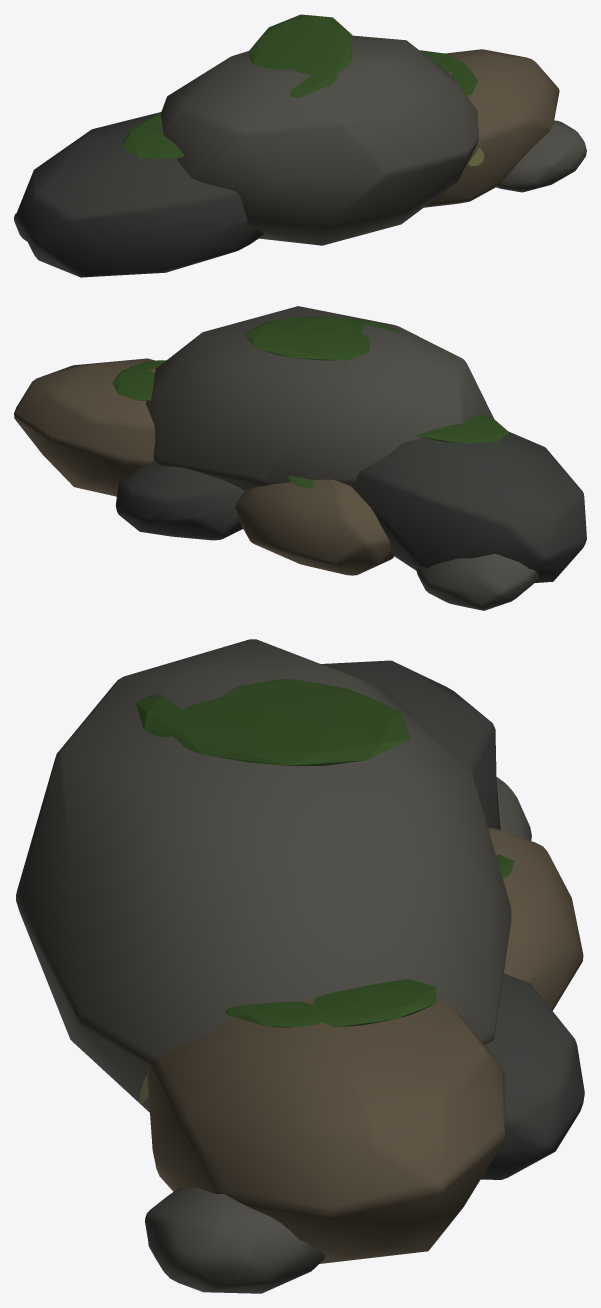
Rendered from highland_outcrop_v1.glb.
3 renders of one model, top to bottom at view 1: azimuth 30°, elevation 25°; view 2: azimuth 150°, elevation 25°; view 3: azimuth 270°, elevation 25°, orthographic. The views are drawn at different scales.
Parts seen in each view (by area): view 1: HighlandOutcrop; view 2: HighlandOutcrop; view 3: HighlandOutcrop.
Boxes of the visible parts, left/top/right/bottom form: HighlandOutcrop: left=14, top=14, right=586, bottom=277; HighlandOutcrop: left=14, top=306, right=586, bottom=610; HighlandOutcrop: left=16, top=639, right=584, bottom=1293.
Bounding box in the file's own units: 9.52 × 3.31 × 4.41.
